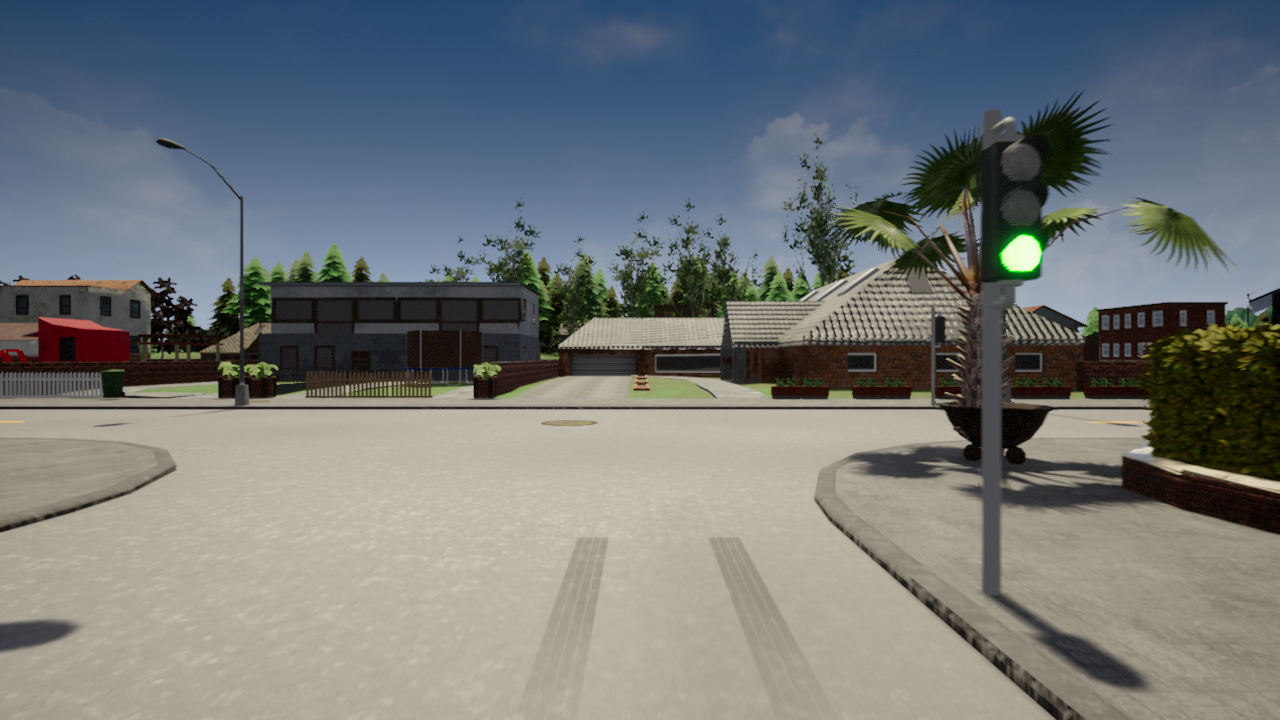green: (978, 133, 1050, 285)
